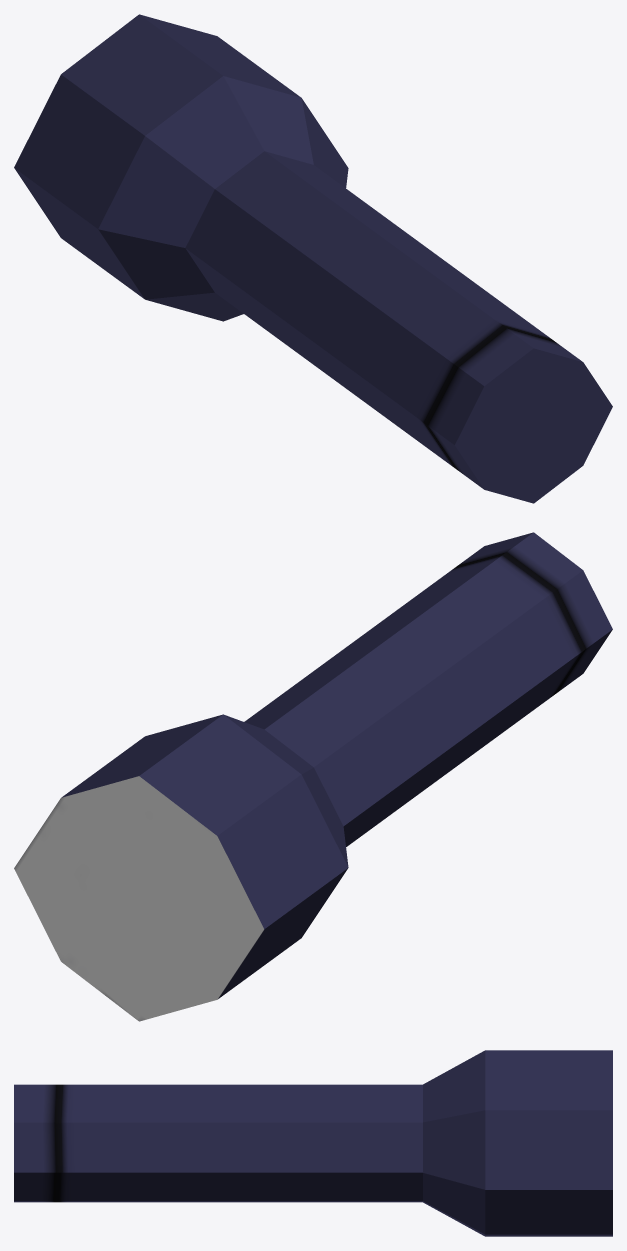
Rendered from Flashlight.fbx.
The picture shows the model from 3 angles, top to bottom: view 1: azimuth 30°, elevation 25°; view 2: azimuth 150°, elevation 25°; view 3: azimuth 270°, elevation 25°; orthographic projection. The views are drawn at different scales.
Parts seen in each view (by area): view 1: Cube; view 2: Cube; view 3: Cube.
Boxes of the visible parts, bbox=[...] form: Cube: bbox=[14, 14, 612, 503]; Cube: bbox=[14, 532, 612, 1021]; Cube: bbox=[14, 1050, 612, 1236].
Bounding box in the file's own units: 506 × 475 × 1382.
1 material, 1 textured.
